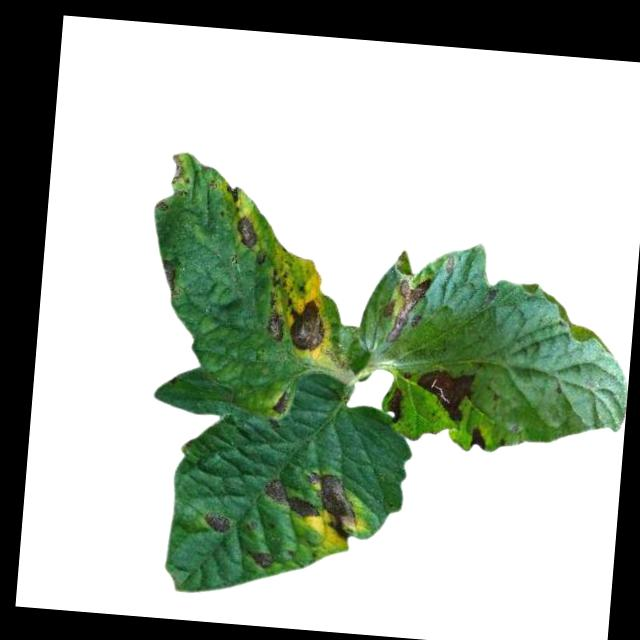Early_blight: (301, 470, 363, 540), (411, 366, 477, 424), (380, 274, 432, 345), (257, 480, 321, 521), (286, 296, 328, 355), (158, 258, 182, 299), (382, 387, 406, 424), (269, 383, 292, 417), (166, 152, 189, 185), (234, 218, 259, 248), (201, 510, 231, 535), (263, 313, 287, 344), (244, 549, 273, 573), (465, 425, 489, 453), (223, 184, 241, 204)
